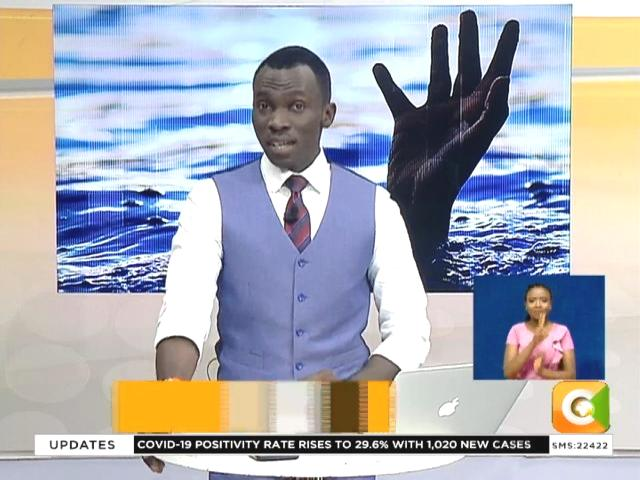out of water: (196, 33, 431, 373)
